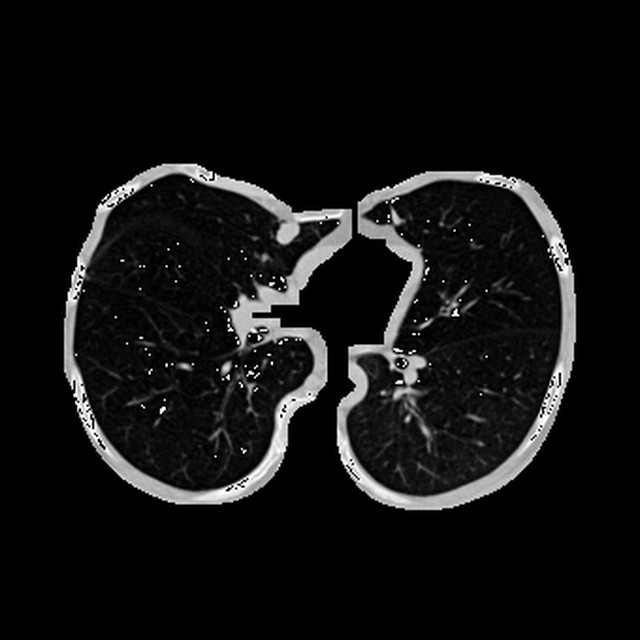PN: (275, 220, 297, 243)
